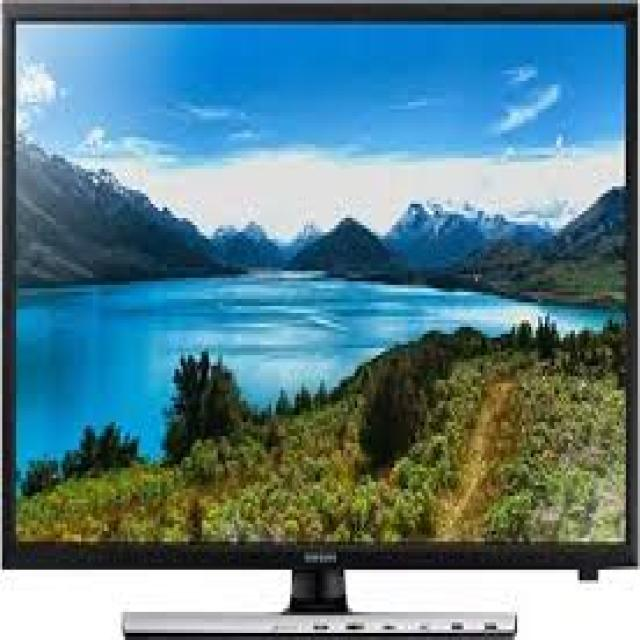tv: (3, 5, 638, 640)
